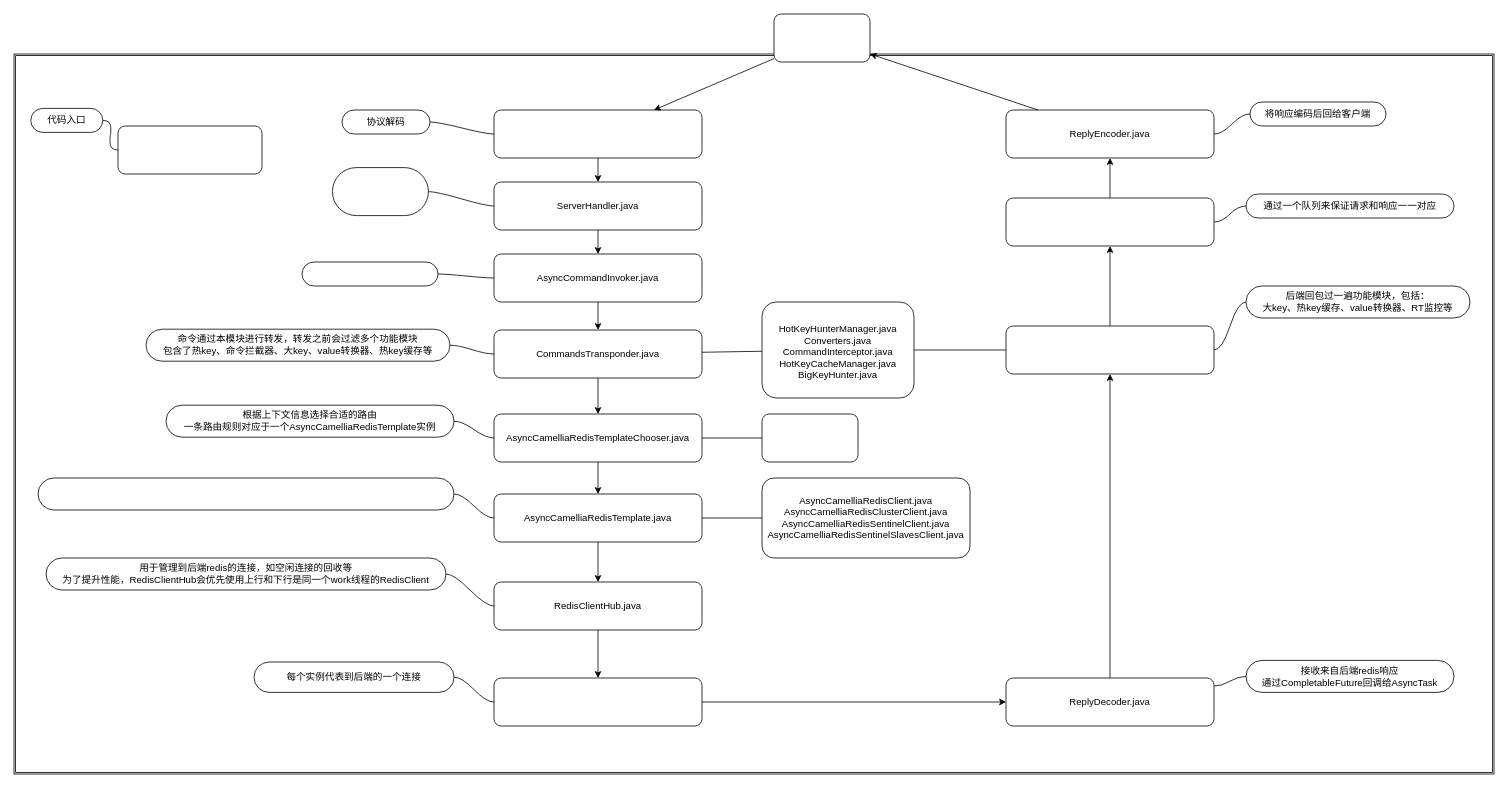
Image size: 1508x788. Some labels were removed from this diagram. The centre of each missing label's shape, as x and y in pixels:
AsyncTask.java: pixel 1109 349
AsyncTaskQueue.java: pixel 1109 221
CamelliaRedisProxyServer.java: pixel 189 149
CommandDecoder.java: pixel 597 133
RedisClient.java: pixel 597 701
remote local custom: pixel 809 437
各种配置、参数的初始化: pixel 369 273
客户端: pixel 821 37
每个实例对应于一条路由 目前支持redis-standalone、redis-sentinel、redis-cluster等（以及各种读写、分片的组合）: pixel 245 493
账号鉴权 请求监控 bid/bgroup解析: pixel 380 191
